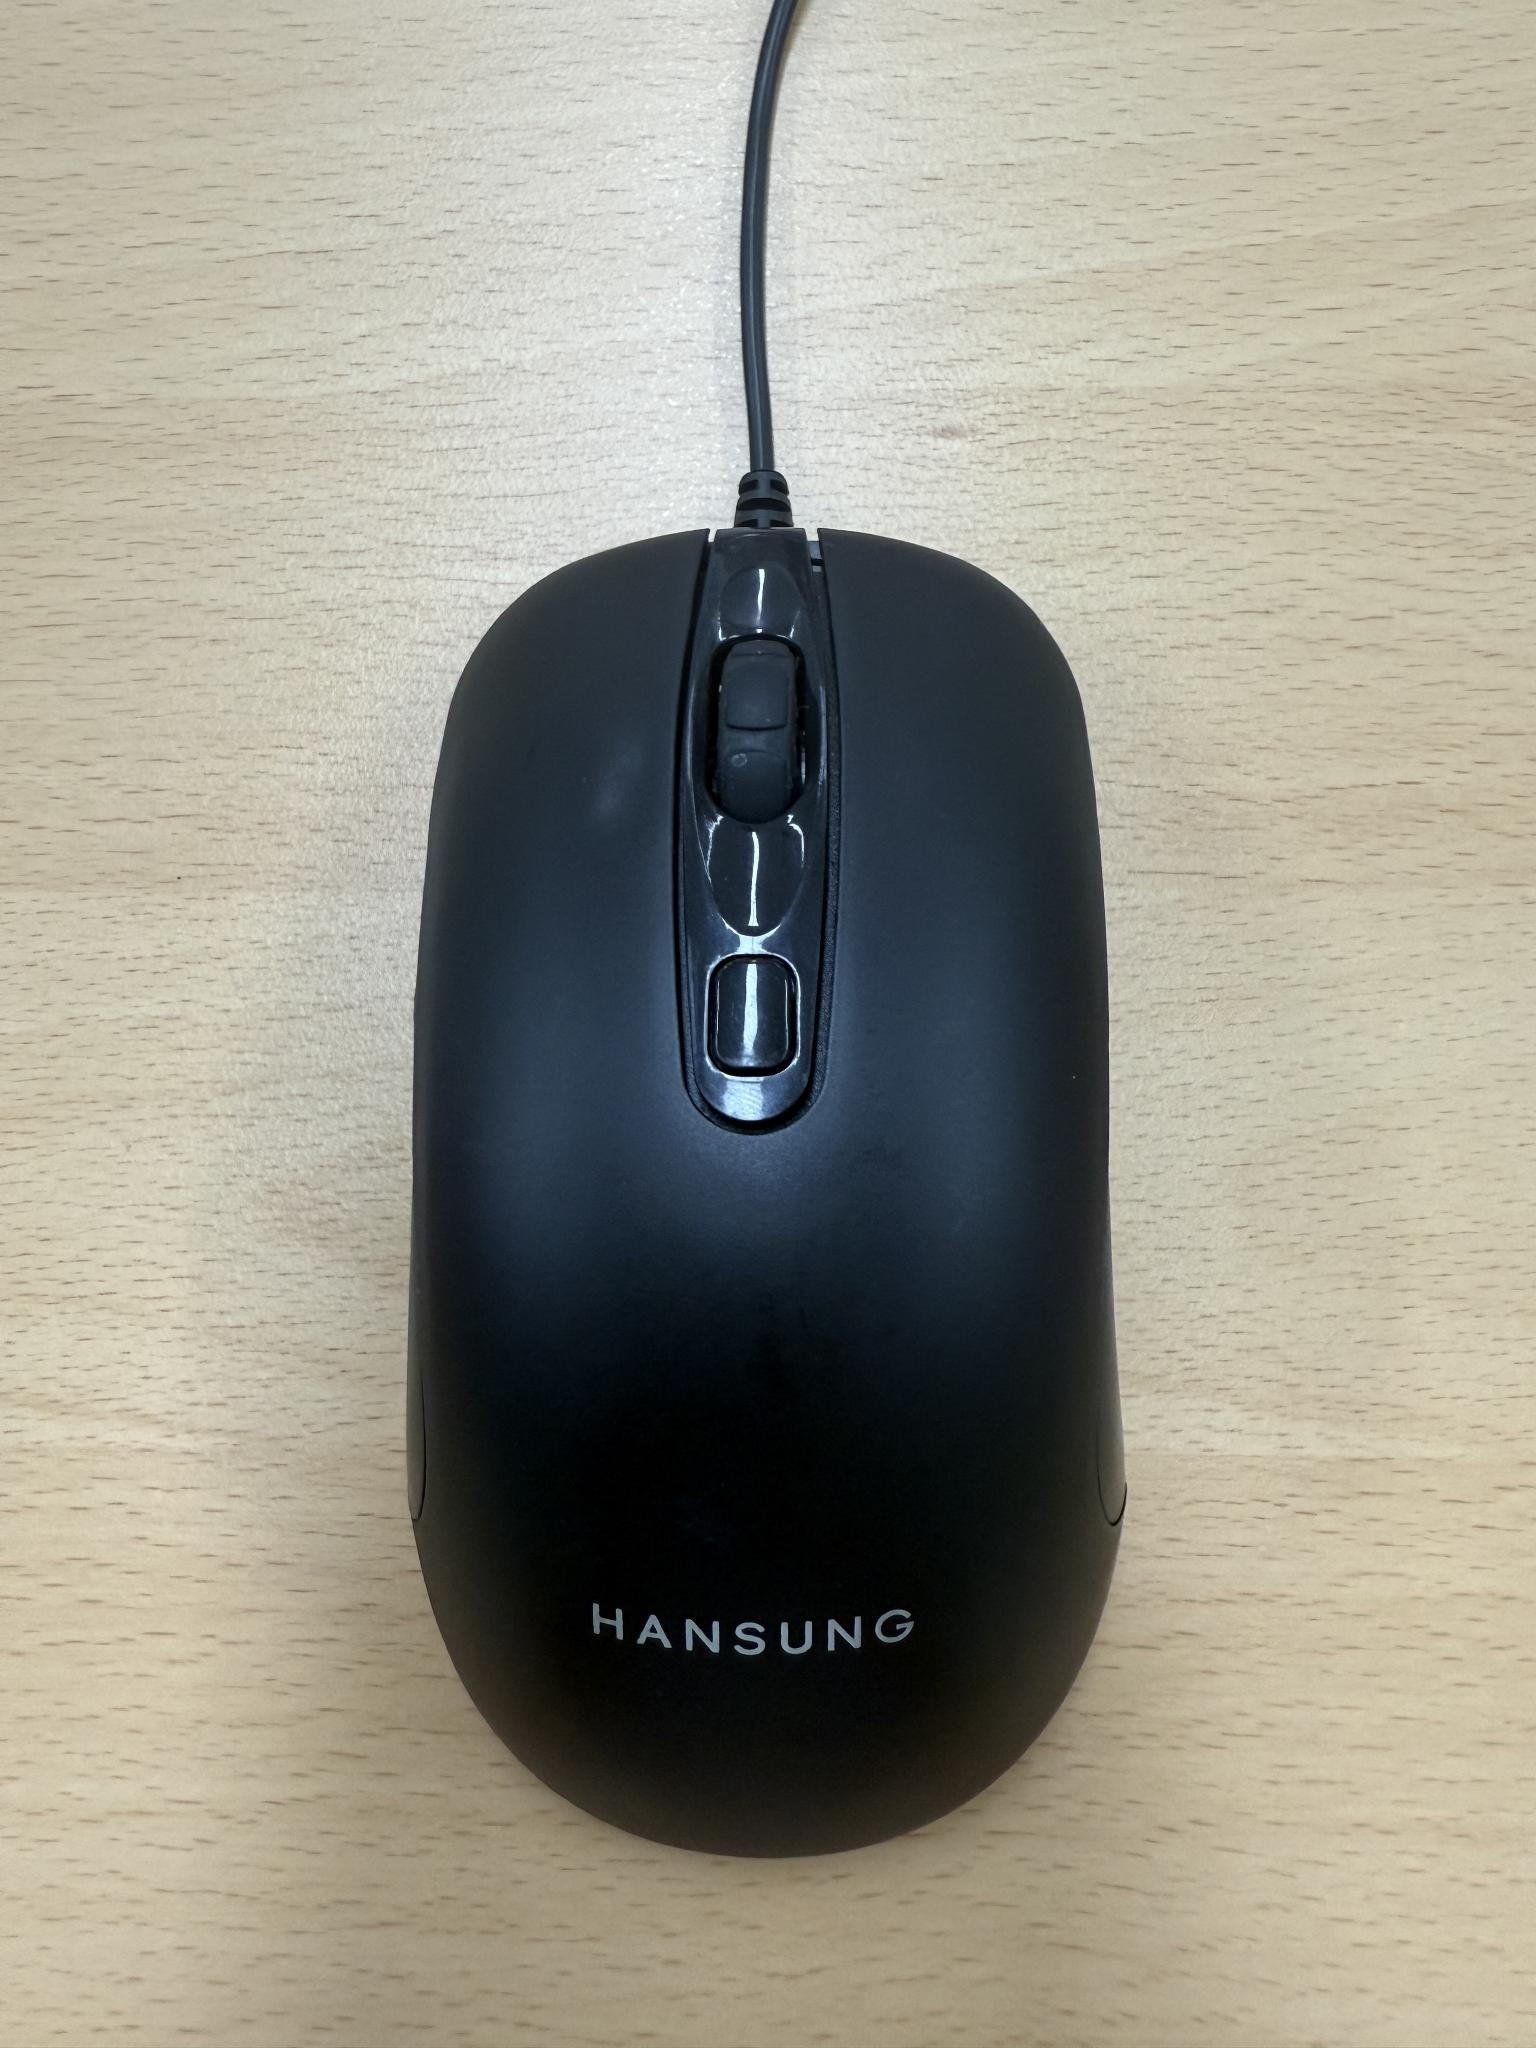front: (403, 516, 1133, 1864)
